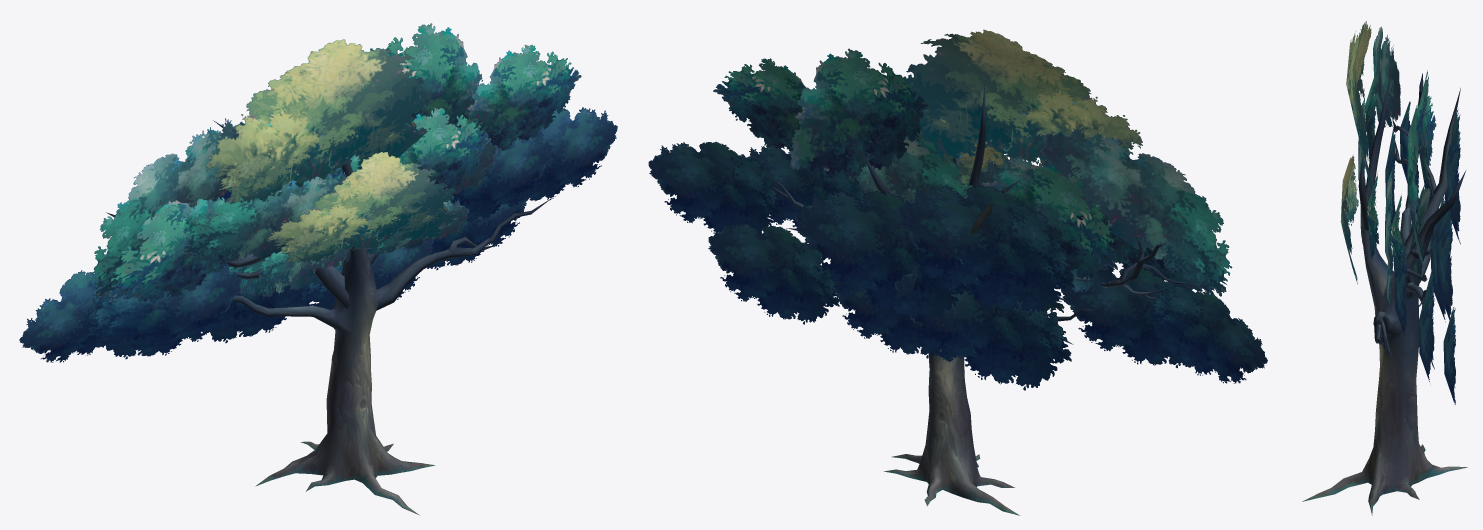
Rendered from shu.FBX.
3 renders of one model, left to right at view 1: azimuth 30°, elevation 25°; view 2: azimuth 150°, elevation 25°; view 3: azimuth 270°, elevation 25°, orthographic. The views are drawn at different scales.
Visible parts, largest first — view 1: shu; view 2: shu; view 3: shu.
Part boxes in pixels (x1=…): shu: x1=19, y1=23, x2=617, y2=515; shu: x1=648, y1=29, x2=1267, y2=515; shu: x1=1302, y1=21, x2=1467, y2=515.
Size of the model in its own units: 1431 by 1039 by 349.
